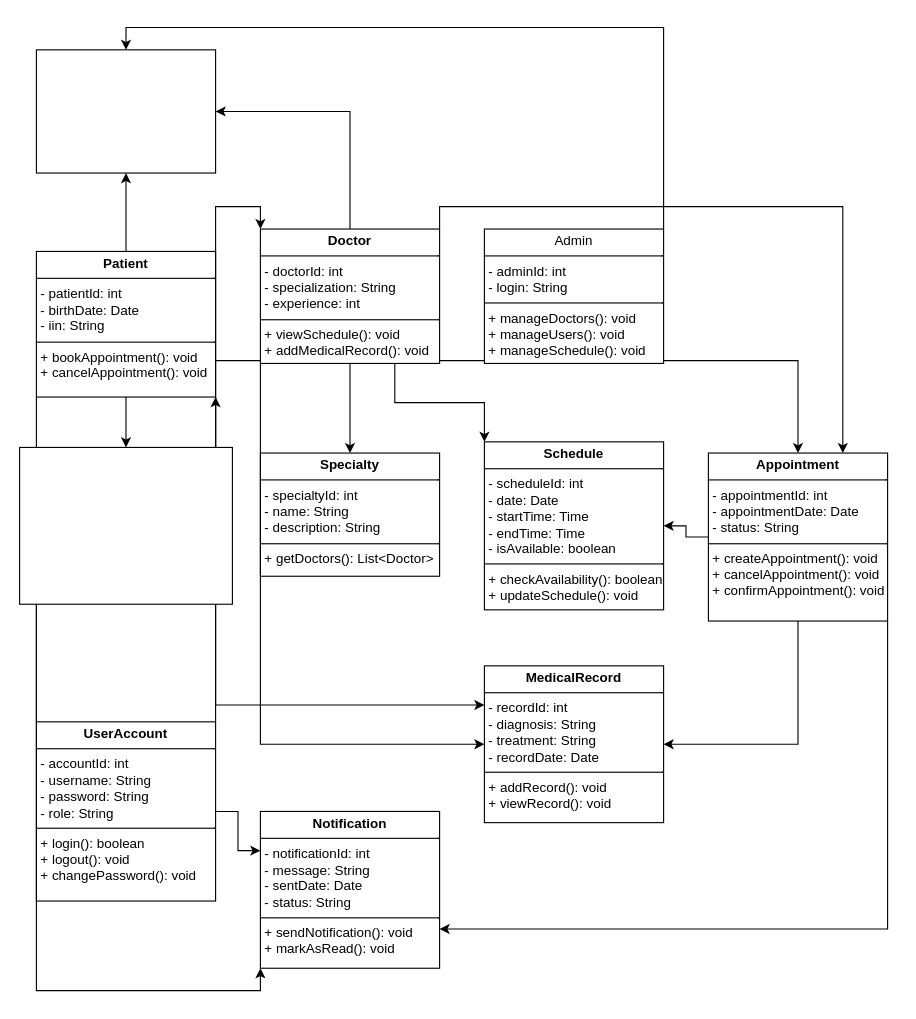
The diagram is 916 pixels wide and 1019 high, and some of its shapes have lost their labels. Each missing label, with the centre of its shape:
<<interface>> IBookable + bookAppointment(): void + cancelAppointment(): void: the point at 125,525
Person -id: int -fullName: String -phone: String + getInfo(): String: the point at 125,111
